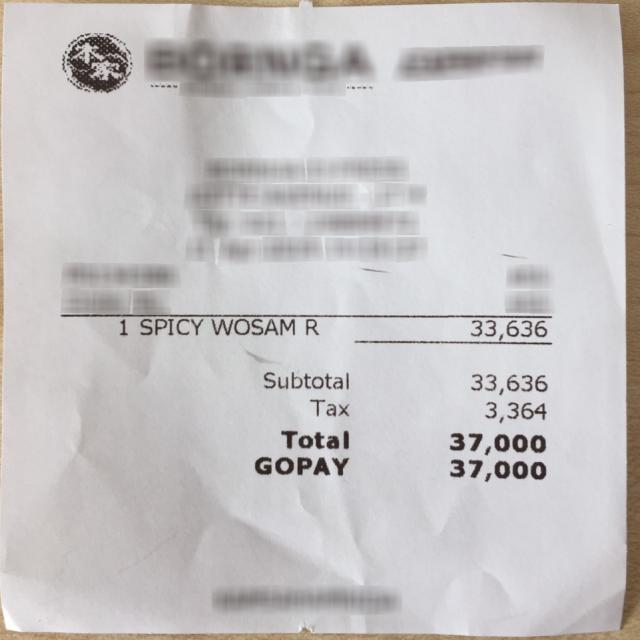text: (450, 458, 546, 482), (450, 432, 544, 454), (469, 318, 546, 340), (254, 456, 348, 474), (210, 316, 297, 335), (470, 373, 545, 393), (263, 371, 350, 388), (280, 428, 347, 449), (484, 400, 545, 421), (138, 318, 204, 336), (308, 398, 348, 416), (304, 316, 318, 335), (117, 318, 128, 336)
